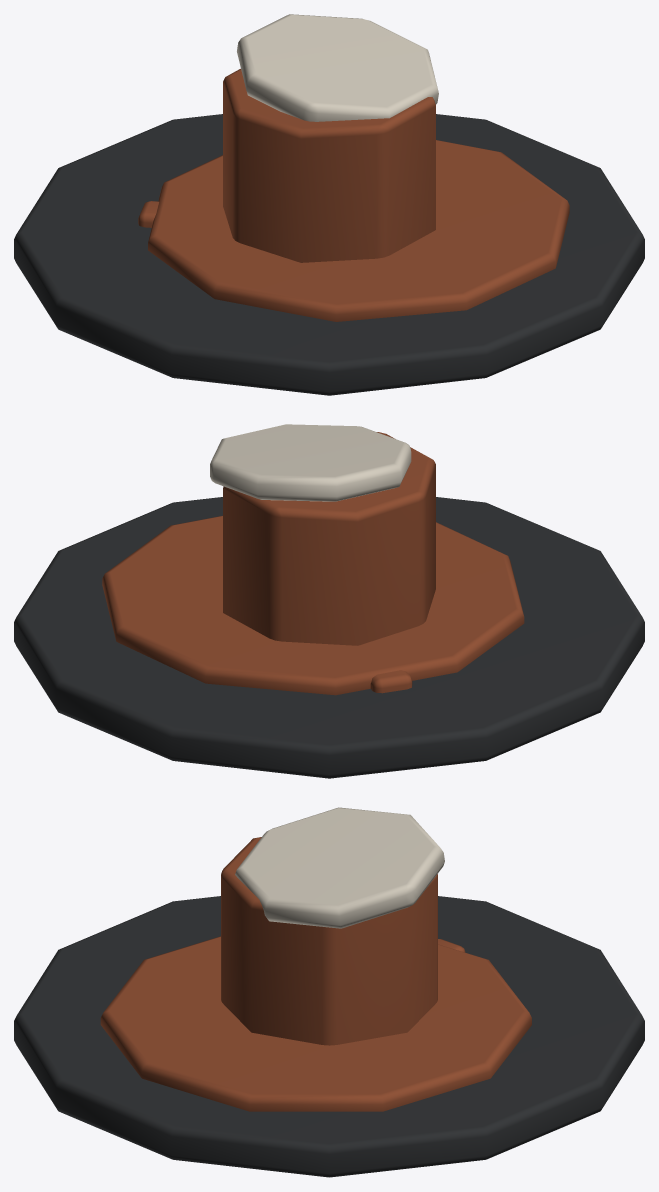
The model's file is camp-stump.glb.
3 views of the same model, one above another, from view 1: azimuth 30°, elevation 25°; view 2: azimuth 150°, elevation 25°; view 3: azimuth 270°, elevation 25° (orthographic).
Parts seen in each view (by area): view 1: camp-stump; view 2: camp-stump; view 3: camp-stump.
Boxes of the visible parts, left/top/right/bottom form: camp-stump: left=14, top=14, right=644, bottom=395; camp-stump: left=14, top=424, right=644, bottom=778; camp-stump: left=14, top=807, right=644, bottom=1177.
Bounding box in the file's own units: 2.4 × 0.8836 × 2.4.
